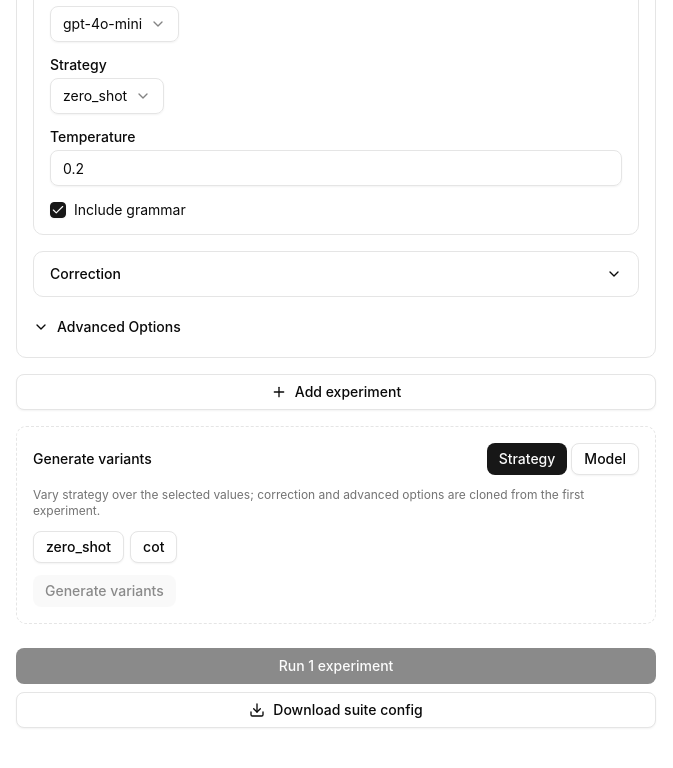
Test: ExperimentsPage › adds an experiment
(page scrolled)
Click the button "Add experiment" at point(336, 392), box [16,374,656,410]
(page scrolled)
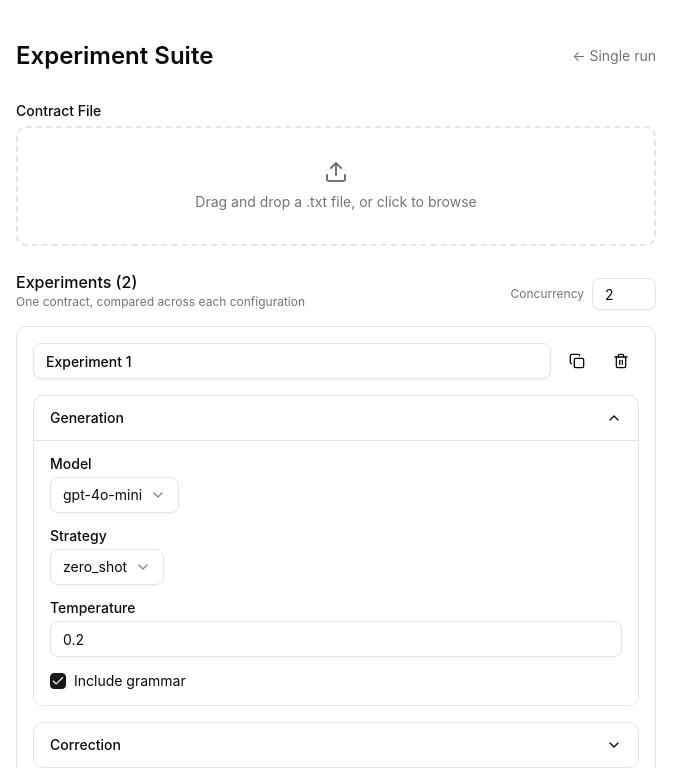
expect the text "Experiments (2)" is shown: met, box [16,272,137,292]
